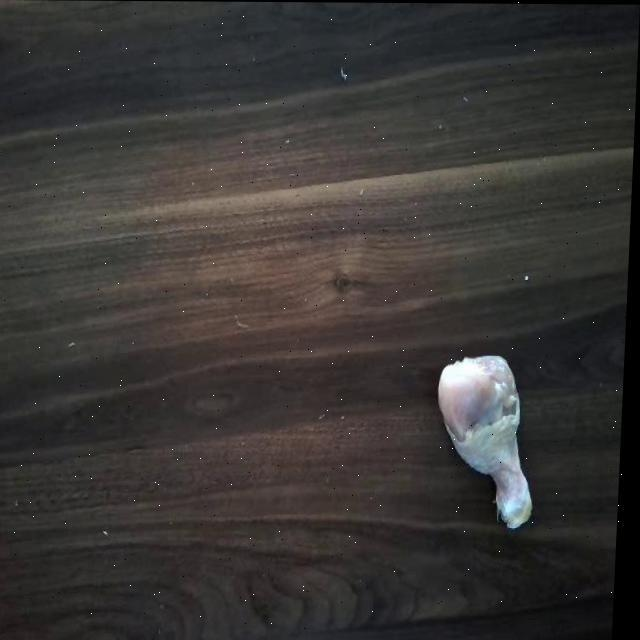leg: (440, 350, 546, 529)
